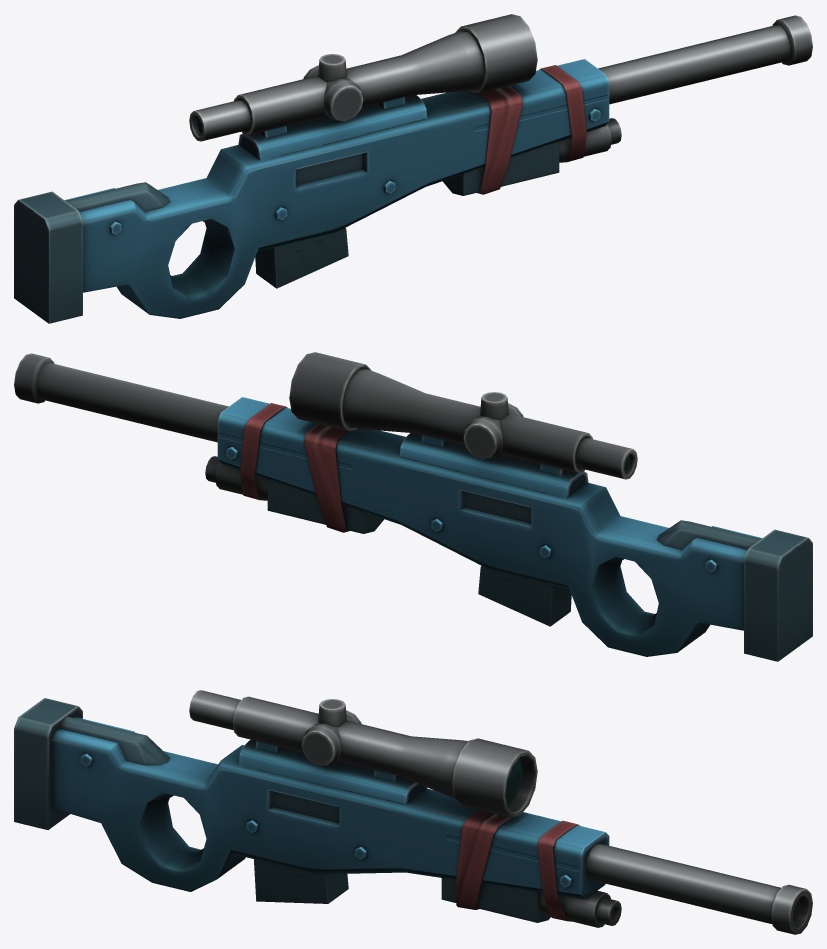
File: StylizedSniper.fbx
The picture shows the model from 3 angles, top to bottom: view 1: azimuth 30°, elevation 25°; view 2: azimuth 150°, elevation 25°; view 3: azimuth 330°, elevation 25°; orthographic projection.
Visible parts, largest first — view 1: SniperRifle; view 2: SniperRifle; view 3: SniperRifle.
Boxes of the visible parts, x1,y1,x2,y2 form: SniperRifle: (14,14,812,323); SniperRifle: (14,352,812,661); SniperRifle: (14,690,812,934).
Bounding box in the file's own units: 167 × 43.37 × 13.16.
1 material, 1 textured.
